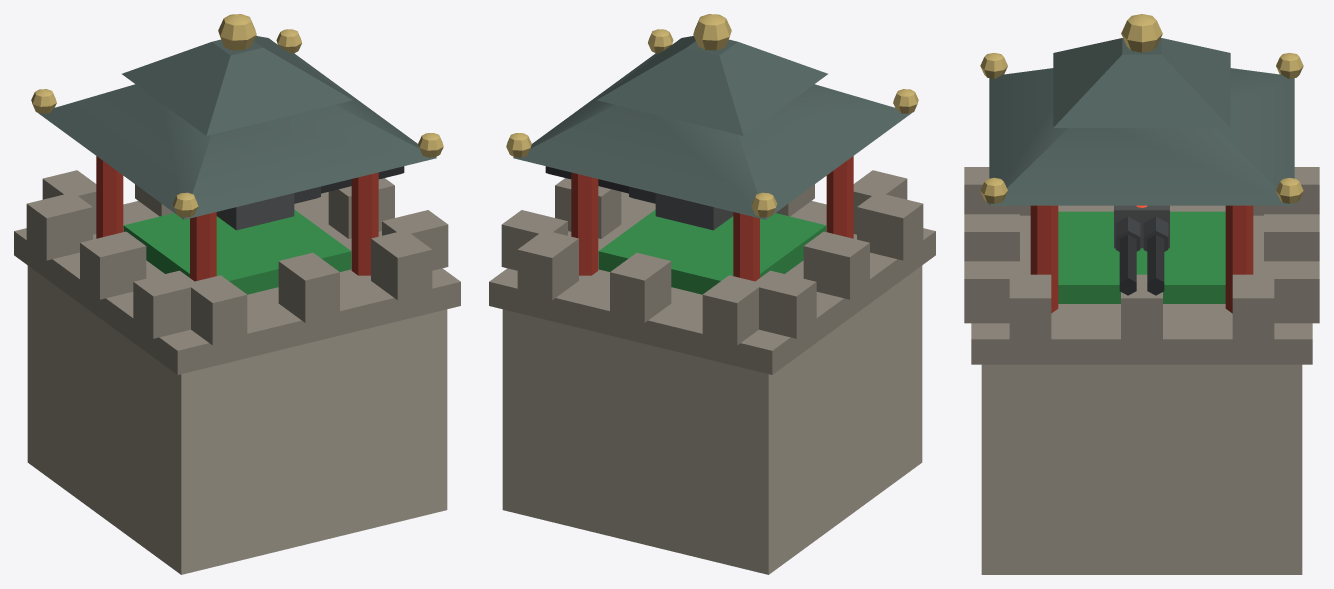
Rendered from gtower_lod1.glb.
3 views of the same model, side by side, from view 1: azimuth 30°, elevation 25°; view 2: azimuth 150°, elevation 25°; view 3: azimuth 270°, elevation 25° (orthographic). The views are drawn at different scales.
Parts seen in each view (by area): view 1: Gtower_LOD1_Walls, Gtower_LOD1_Details, Gtower_LOD1_Frame, Gtower_LOD1_head; view 2: Gtower_LOD1_Walls, Gtower_LOD1_Details, Gtower_LOD1_Frame, Gtower_LOD1_head; view 3: Gtower_LOD1_Walls, Gtower_LOD1_Details, Gtower_LOD1_Frame, Gtower_LOD1_head.
Boxes of the visible parts, x1=… form: Gtower_LOD1_Walls: x1=14, y1=36, x2=460, y2=574; Gtower_LOD1_Details: x1=26, y1=14, x2=448, y2=345; Gtower_LOD1_Frame: x1=96, y1=156, x2=378, y2=281; Gtower_LOD1_head: x1=216, y1=166, x2=404, y2=230; Gtower_LOD1_Walls: x1=489, y1=36, x2=935, y2=574; Gtower_LOD1_Details: x1=501, y1=14, x2=923, y2=345; Gtower_LOD1_Frame: x1=571, y1=156, x2=853, y2=281; Gtower_LOD1_head: x1=545, y1=166, x2=733, y2=230; Gtower_LOD1_Walls: x1=971, y1=38, x2=1312, y2=574; Gtower_LOD1_Details: x1=964, y1=14, x2=1319, y2=342; Gtower_LOD1_Frame: x1=1030, y1=205, x2=1253, y2=313; Gtower_LOD1_head: x1=1114, y1=205, x2=1169, y2=295.
Bounding box in the file's own units: 1.05 × 1.56 × 1.02.
